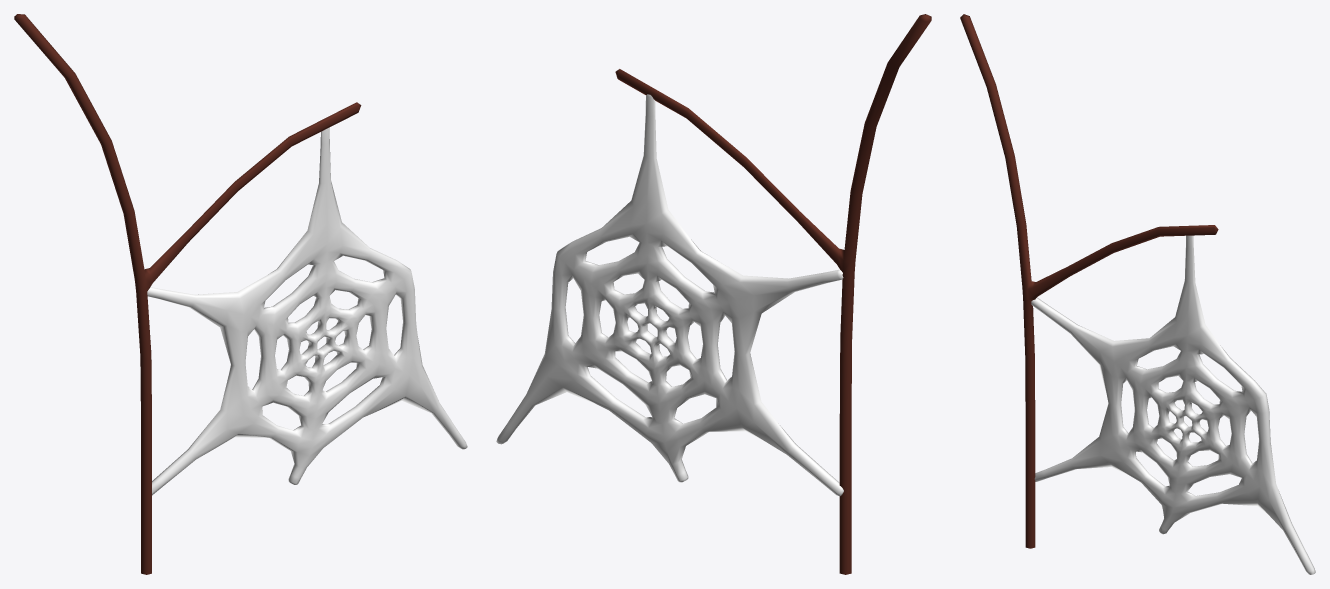
File: Spiderweb_BottomThird_Joined.fbx
3 renders of one model, left to right at view 1: azimuth 30°, elevation 25°; view 2: azimuth 150°, elevation 25°; view 3: azimuth 330°, elevation 25°, orthographic. The views are drawn at different scales.
Parts seen in each view (by area): view 1: Branch_SpiderWeb_Basic.005; view 2: Branch_SpiderWeb_Basic.005; view 3: Branch_SpiderWeb_Basic.005.
Boxes of the visible parts, x1,y1,x2,y2 form: Branch_SpiderWeb_Basic.005: (14,14,467,574); Branch_SpiderWeb_Basic.005: (496,14,931,574); Branch_SpiderWeb_Basic.005: (960,14,1315,574).
Bounding box in the file's own units: 411 × 516 × 52.57.
